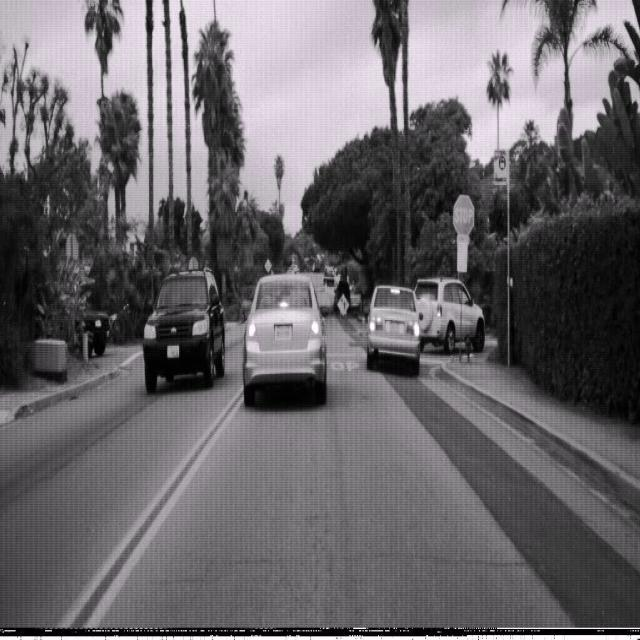stop_sign: (452, 194, 474, 236)
